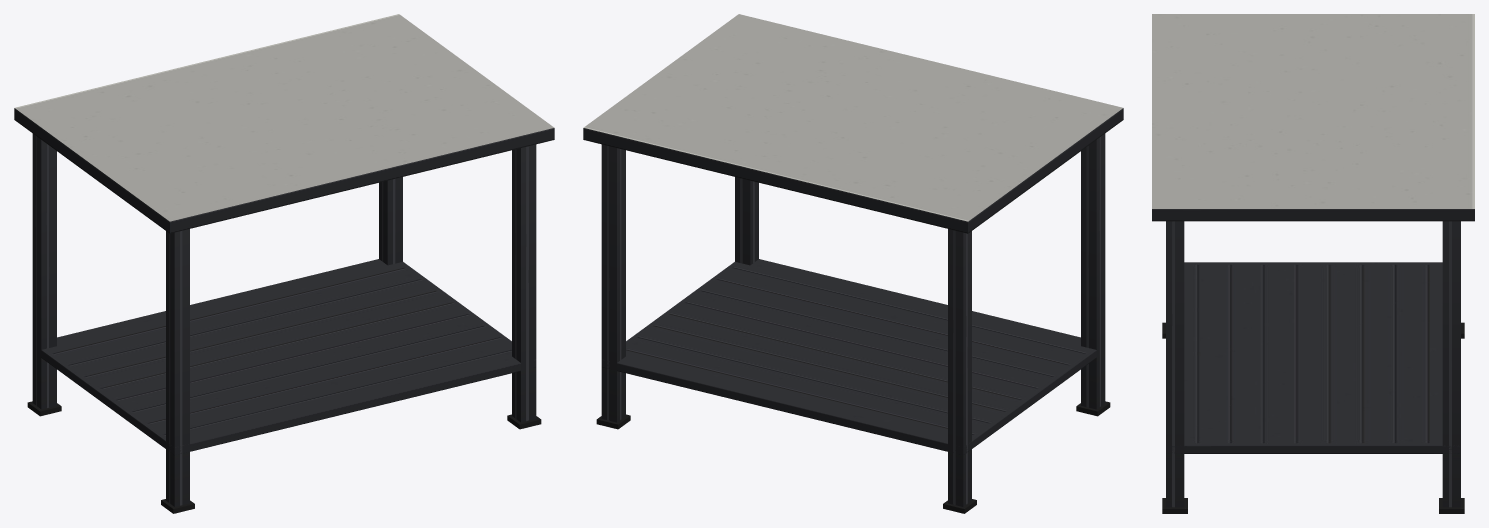
Rendered from printer-stand.glb.
The picture shows the model from 3 angles, left to right: view 1: azimuth 30°, elevation 25°; view 2: azimuth 150°, elevation 25°; view 3: azimuth 270°, elevation 25°; orthographic projection. The views are drawn at different scales.
Parts seen in each view (by area): view 1: PrinterStand; view 2: PrinterStand; view 3: PrinterStand.
Boxes of the visible parts, x1,y1,x2,y2 form: PrinterStand: (14, 14, 554, 513); PrinterStand: (583, 14, 1123, 513); PrinterStand: (1152, 14, 1474, 513).
Bounding box in the file's own units: 1 × 0.74 × 0.7.
1 material, 1 textured.
